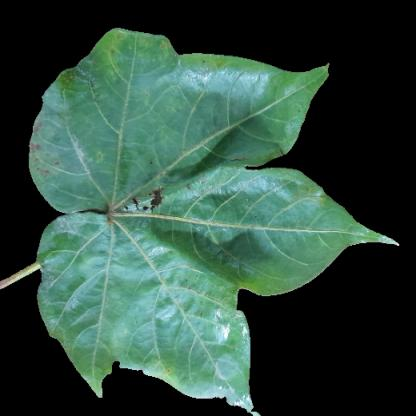curl_stage1: (136, 35, 182, 67), (156, 350, 189, 390), (103, 35, 130, 78)
healthy: (203, 180, 306, 285), (75, 240, 152, 320), (197, 91, 268, 155), (96, 113, 177, 164), (153, 275, 215, 340), (33, 129, 88, 192), (160, 214, 202, 269), (123, 78, 192, 111), (312, 198, 344, 268)
